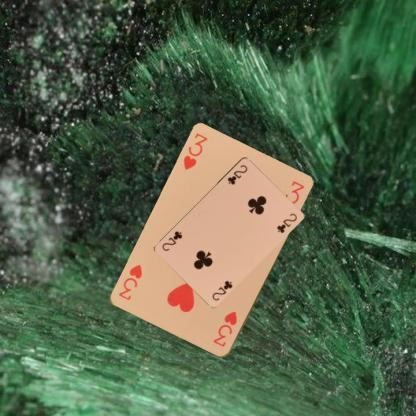2c: (225, 162, 249, 185), (210, 278, 233, 302)
3h: (180, 130, 209, 172), (210, 309, 239, 349)
